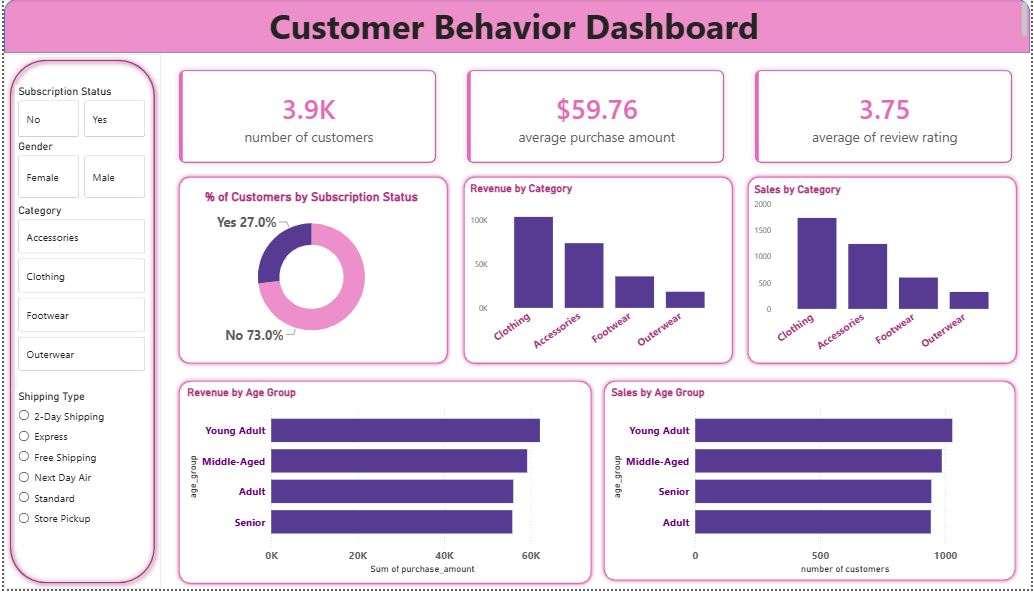

The dashboard page shown, as its layout file describes it:
{"tool":"powerbi","page":{"name":"Page 1","canvas":[1600,920],"ordinal":0},"visuals":[{"type":"shape","box":[0,0,1600,84.3],"z":0,"group":"g7"},{"type":"cardVisual","fields":{"Data":["customer_data.number of customers"]},"box":[244.3,82.6,457.5,201.6],"z":0,"group":"g5"},{"type":"group","id":"g1","title":"Group 2","box":[266.7,271.8,431.5,303.1],"z":0,"group":"g6"},{"type":"cardVisual","fields":{"Data":["customer_data.average purchase amount"]},"box":[693.7,82.6,457.5,201.6],"z":1000,"group":"g5"},{"type":"group","id":"g2","title":"Group 3","box":[710.4,271.8,431.5,303.3],"z":1000,"group":"g6"},{"type":"group","id":"g3","title":"Group 2","box":[267.2,589.9,655.5,328.6],"z":1000,"group":"g9"},{"type":"textbox","box":[0,0,1600,71.3],"z":2000,"group":"g7"},{"type":"cardVisual","fields":{"Data":["customer_data.average of review rating"]},"box":[1143.1,82.6,457.5,201.6],"z":2000,"group":"g5"},{"type":"shape","box":[710.4,271.8,431.5,303.3],"z":2000,"group":"g2"},{"type":"group","id":"g4","title":"Group 4","box":[1154,271.8,431.5,303.3],"z":2000,"group":"g6"},{"type":"group","id":"g5","title":"Group 1","box":[244.3,82.6,1355.7,201.3],"z":3000},{"type":"shape","box":[266.7,271.8,431.5,303.1],"z":3000,"group":"g1"},{"type":"shape","box":[1154,271.8,431.5,303.3],"z":3000,"group":"g4"},{"type":"shape","box":[267.2,589.9,655.5,328.6],"z":3000,"group":"g3"},{"type":"shape","box":[930.7,589.9,653.8,323.4],"z":3000,"group":"g10"},{"type":"group","id":"g6","title":"Group 5","box":[266.7,271.8,1317.8,302.8],"z":4000},{"type":"donutChart","title":"% of Customers by Subscription Status","fields":{"Category":["customer_data.subscription_status"],"Y":["CountNonNull(customer_data.customer_id)"]},"box":[284,297.3,391.2,252],"z":4000,"group":"g1"},{"type":"shape","box":[0,86,244.3,834.4],"z":5000,"group":"g8"},{"type":"advancedSlicerVisual","fields":{"Values":["customer_data.subscription_status"]},"box":[17.8,133.6,208.7,86],"z":6000,"group":"g8"},{"type":"clusteredColumnChart","title":"Revenue by Category","fields":{"Y":["Sum(customer_data.purchase_amount)"],"Category":["customer_data.category"]},"box":[721.3,285.5,409.7,274.3],"z":6000,"group":"g2"},{"type":"clusteredColumnChart","title":"Sales by Category","fields":{"Category":["customer_data.category"],"Y":["customer_data.number of customers"]},"box":[1165.3,287,409.7,274.3],"z":6001,"group":"g4"},{"type":"advancedSlicerVisual","fields":{"Values":["customer_data.gender"]},"box":[17.8,219.6,208.7,95.2],"z":7000,"group":"g8"},{"type":"advancedSlicerVisual","fields":{"Values":["customer_data.category"]},"box":[17.8,320.2,208.7,269],"z":8000,"group":"g8"},{"type":"listSlicer","fields":{"Values":["customer_data.shipping_type"]},"box":[17.8,609.3,208.7,248.9],"z":9000,"group":"g8"},{"type":"clusteredBarChart","title":"Revenue by Age Group","fields":{"Y":["Sum(customer_data.purchase_amount)"],"Category":["customer_data.age_group"]},"box":[280.6,603.8,628,297.6],"z":10000,"group":"g9"},{"type":"clusteredBarChart","title":"Sales by Age Group","fields":{"Y":["customer_data.number of customers"],"Category":["customer_data.age_group"]},"box":[942.8,603.8,628,297.6],"z":10000,"group":"g10"},{"type":"group","id":"g7","title":"Group 6","box":[0,0,1600,84.3],"z":10001},{"type":"group","id":"g8","title":"Group 7","box":[0,86,244.3,834.4],"z":10003},{"type":"group","id":"g9","title":"Group 8","box":[267.2,589.9,655.5,328.6],"z":10004,"group":"g11"},{"type":"group","id":"g10","title":"Group 9","box":[930.7,589.9,653.8,323.4],"z":10005,"group":"g11"},{"type":"group","id":"g11","title":"Group 10","box":[267.2,589.9,1317.2,328.6],"z":10006}]}

Visuals, with their boxes in screenshot pixels (x1, y1, x2, y2), scaled from the page's 1600x920 canvas onto the 1034x594 screenshot:
shape: select_region(0, 0, 1033, 54)
cardVisual - customer_data.number of customers: select_region(158, 53, 454, 183)
"Group 2" group: select_region(172, 175, 451, 371)
cardVisual - customer_data.average purchase amount: select_region(448, 53, 744, 183)
"Group 3" group: select_region(459, 175, 738, 371)
"Group 2" group: select_region(173, 381, 596, 593)
textbox: select_region(0, 0, 1033, 46)
cardVisual - customer_data.average of review rating: select_region(739, 53, 1033, 183)
shape: select_region(459, 175, 738, 371)
"Group 4" group: select_region(746, 175, 1025, 371)
"Group 1" group: select_region(158, 53, 1033, 183)
shape: select_region(172, 175, 451, 371)
shape: select_region(746, 175, 1025, 371)
shape: select_region(173, 381, 596, 593)
shape: select_region(601, 381, 1024, 590)
"Group 5" group: select_region(172, 175, 1024, 371)
"% of Customers by Subscription Status" donutChart: select_region(184, 192, 436, 355)
shape: select_region(0, 56, 158, 593)
advancedSlicerVisual - customer_data.subscription_status: select_region(12, 86, 146, 142)
"Revenue by Category" clusteredColumnChart: select_region(466, 184, 731, 361)
"Sales by Category" clusteredColumnChart: select_region(753, 185, 1018, 362)
advancedSlicerVisual - customer_data.gender: select_region(12, 142, 146, 203)
advancedSlicerVisual - customer_data.category: select_region(12, 207, 146, 380)
listSlicer - customer_data.shipping_type: select_region(12, 393, 146, 554)
"Revenue by Age Group" clusteredBarChart: select_region(181, 390, 587, 582)
"Sales by Age Group" clusteredBarChart: select_region(609, 390, 1015, 582)
"Group 6" group: select_region(0, 0, 1033, 54)
"Group 7" group: select_region(0, 56, 158, 593)
"Group 8" group: select_region(173, 381, 596, 593)
"Group 9" group: select_region(601, 381, 1024, 590)
"Group 10" group: select_region(173, 381, 1024, 593)
